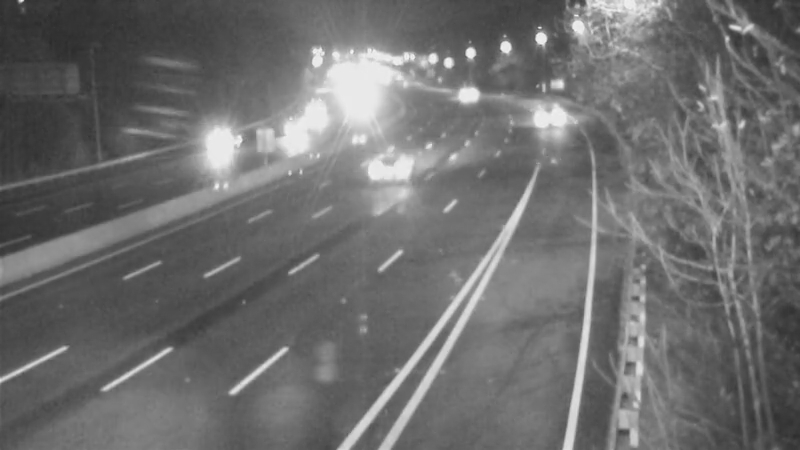vehicle: (347, 131, 427, 211), (440, 67, 490, 117), (517, 89, 567, 139), (193, 117, 243, 167), (269, 102, 319, 152), (291, 90, 341, 140)
